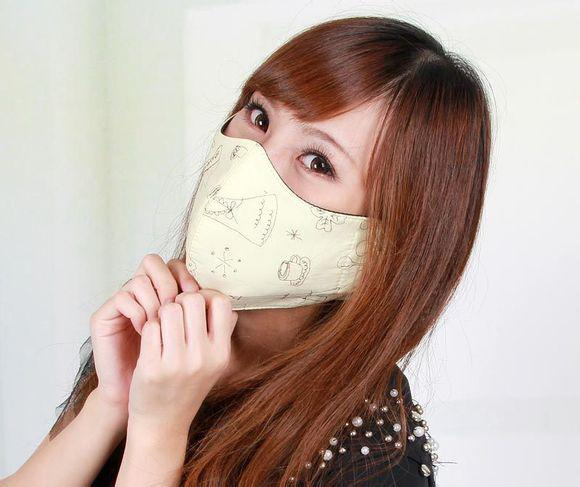OK: (184, 78, 407, 301)
